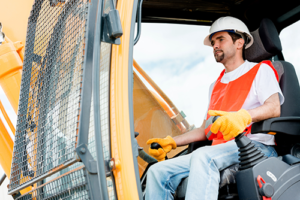crane-operator: (196, 7, 265, 96), (200, 10, 265, 96)
